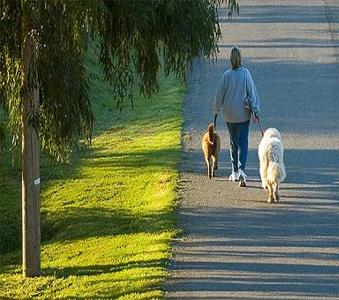person: (214, 47, 259, 187)
